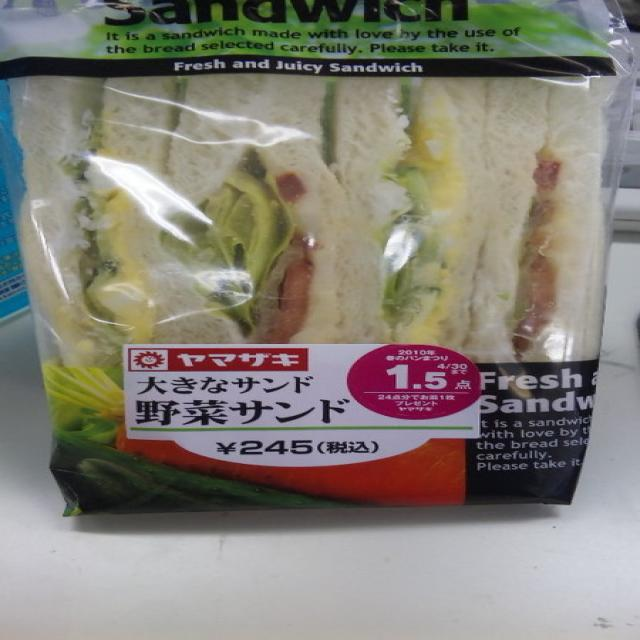三明治: (27, 8, 606, 546)
